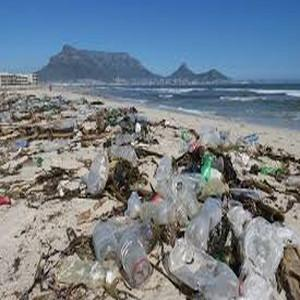Plastic: (182, 192, 223, 253)
